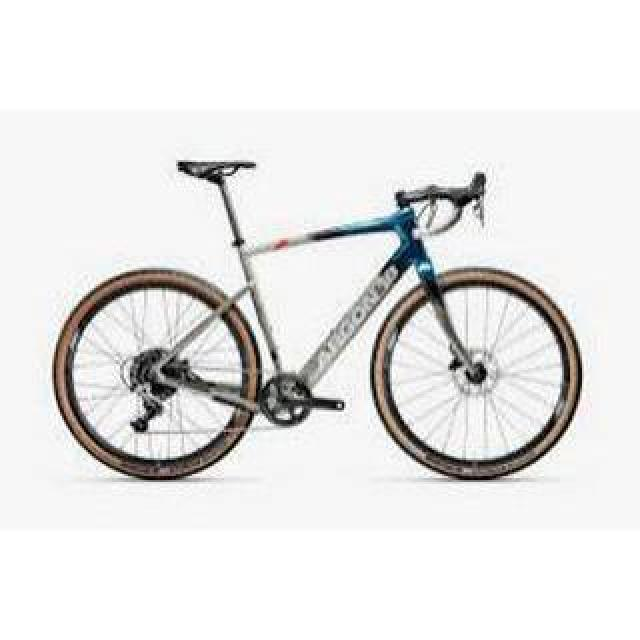Person: (52, 157, 584, 487)
